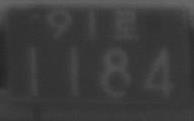1: (57, 45, 92, 95), (18, 45, 50, 96), (80, 9, 106, 40)
4: (144, 47, 177, 96)
8: (100, 46, 132, 98)
9: (47, 8, 74, 38)
로: (110, 8, 139, 39)
